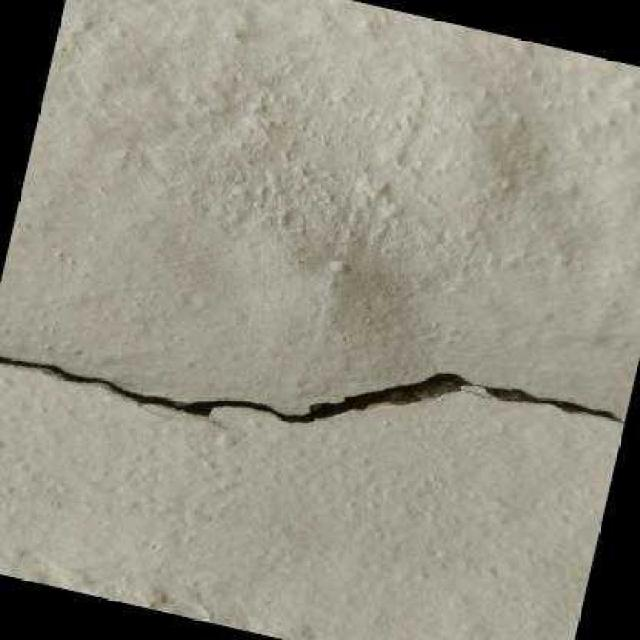D00: (0, 352, 626, 425)
